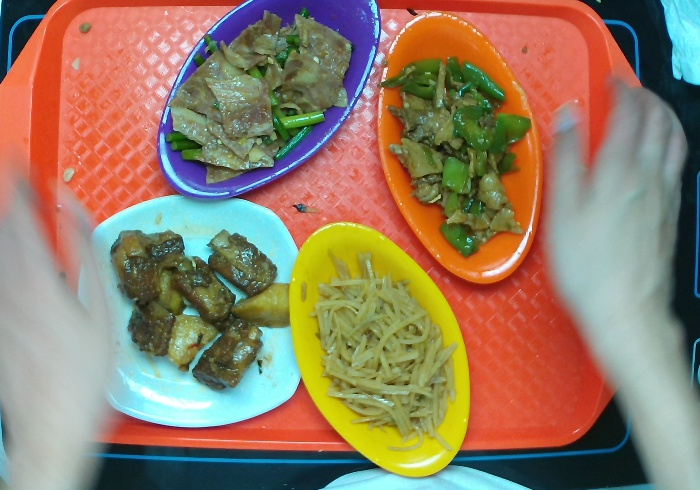RJxy-Fen_Hong_Tuo_Yuan: (156, 1, 383, 199)
RJxy-Huang_Se_Tuo_Yuan: (288, 221, 472, 478)
RJxy-Ju_Huang_Tuo_Yuan: (376, 11, 540, 282)
RJxy-Si_Fang_Die: (75, 189, 310, 432)
